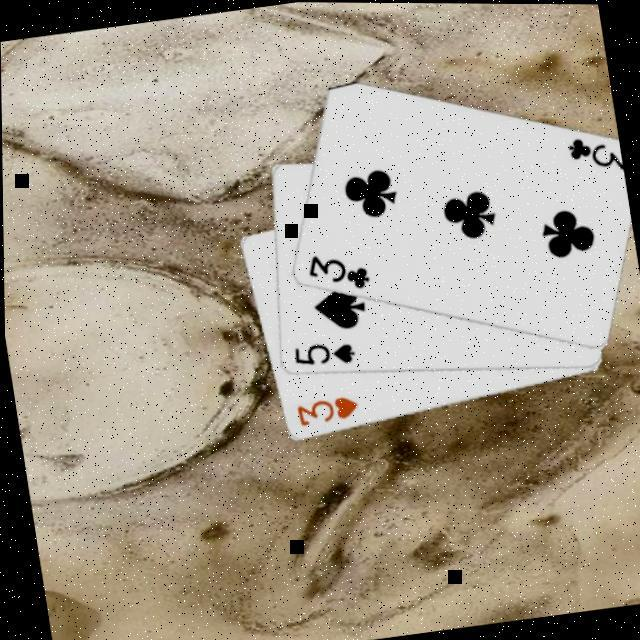3C: (302, 244, 374, 298), (562, 128, 624, 178)
3H: (291, 390, 362, 429)
5S: (288, 334, 358, 374)
